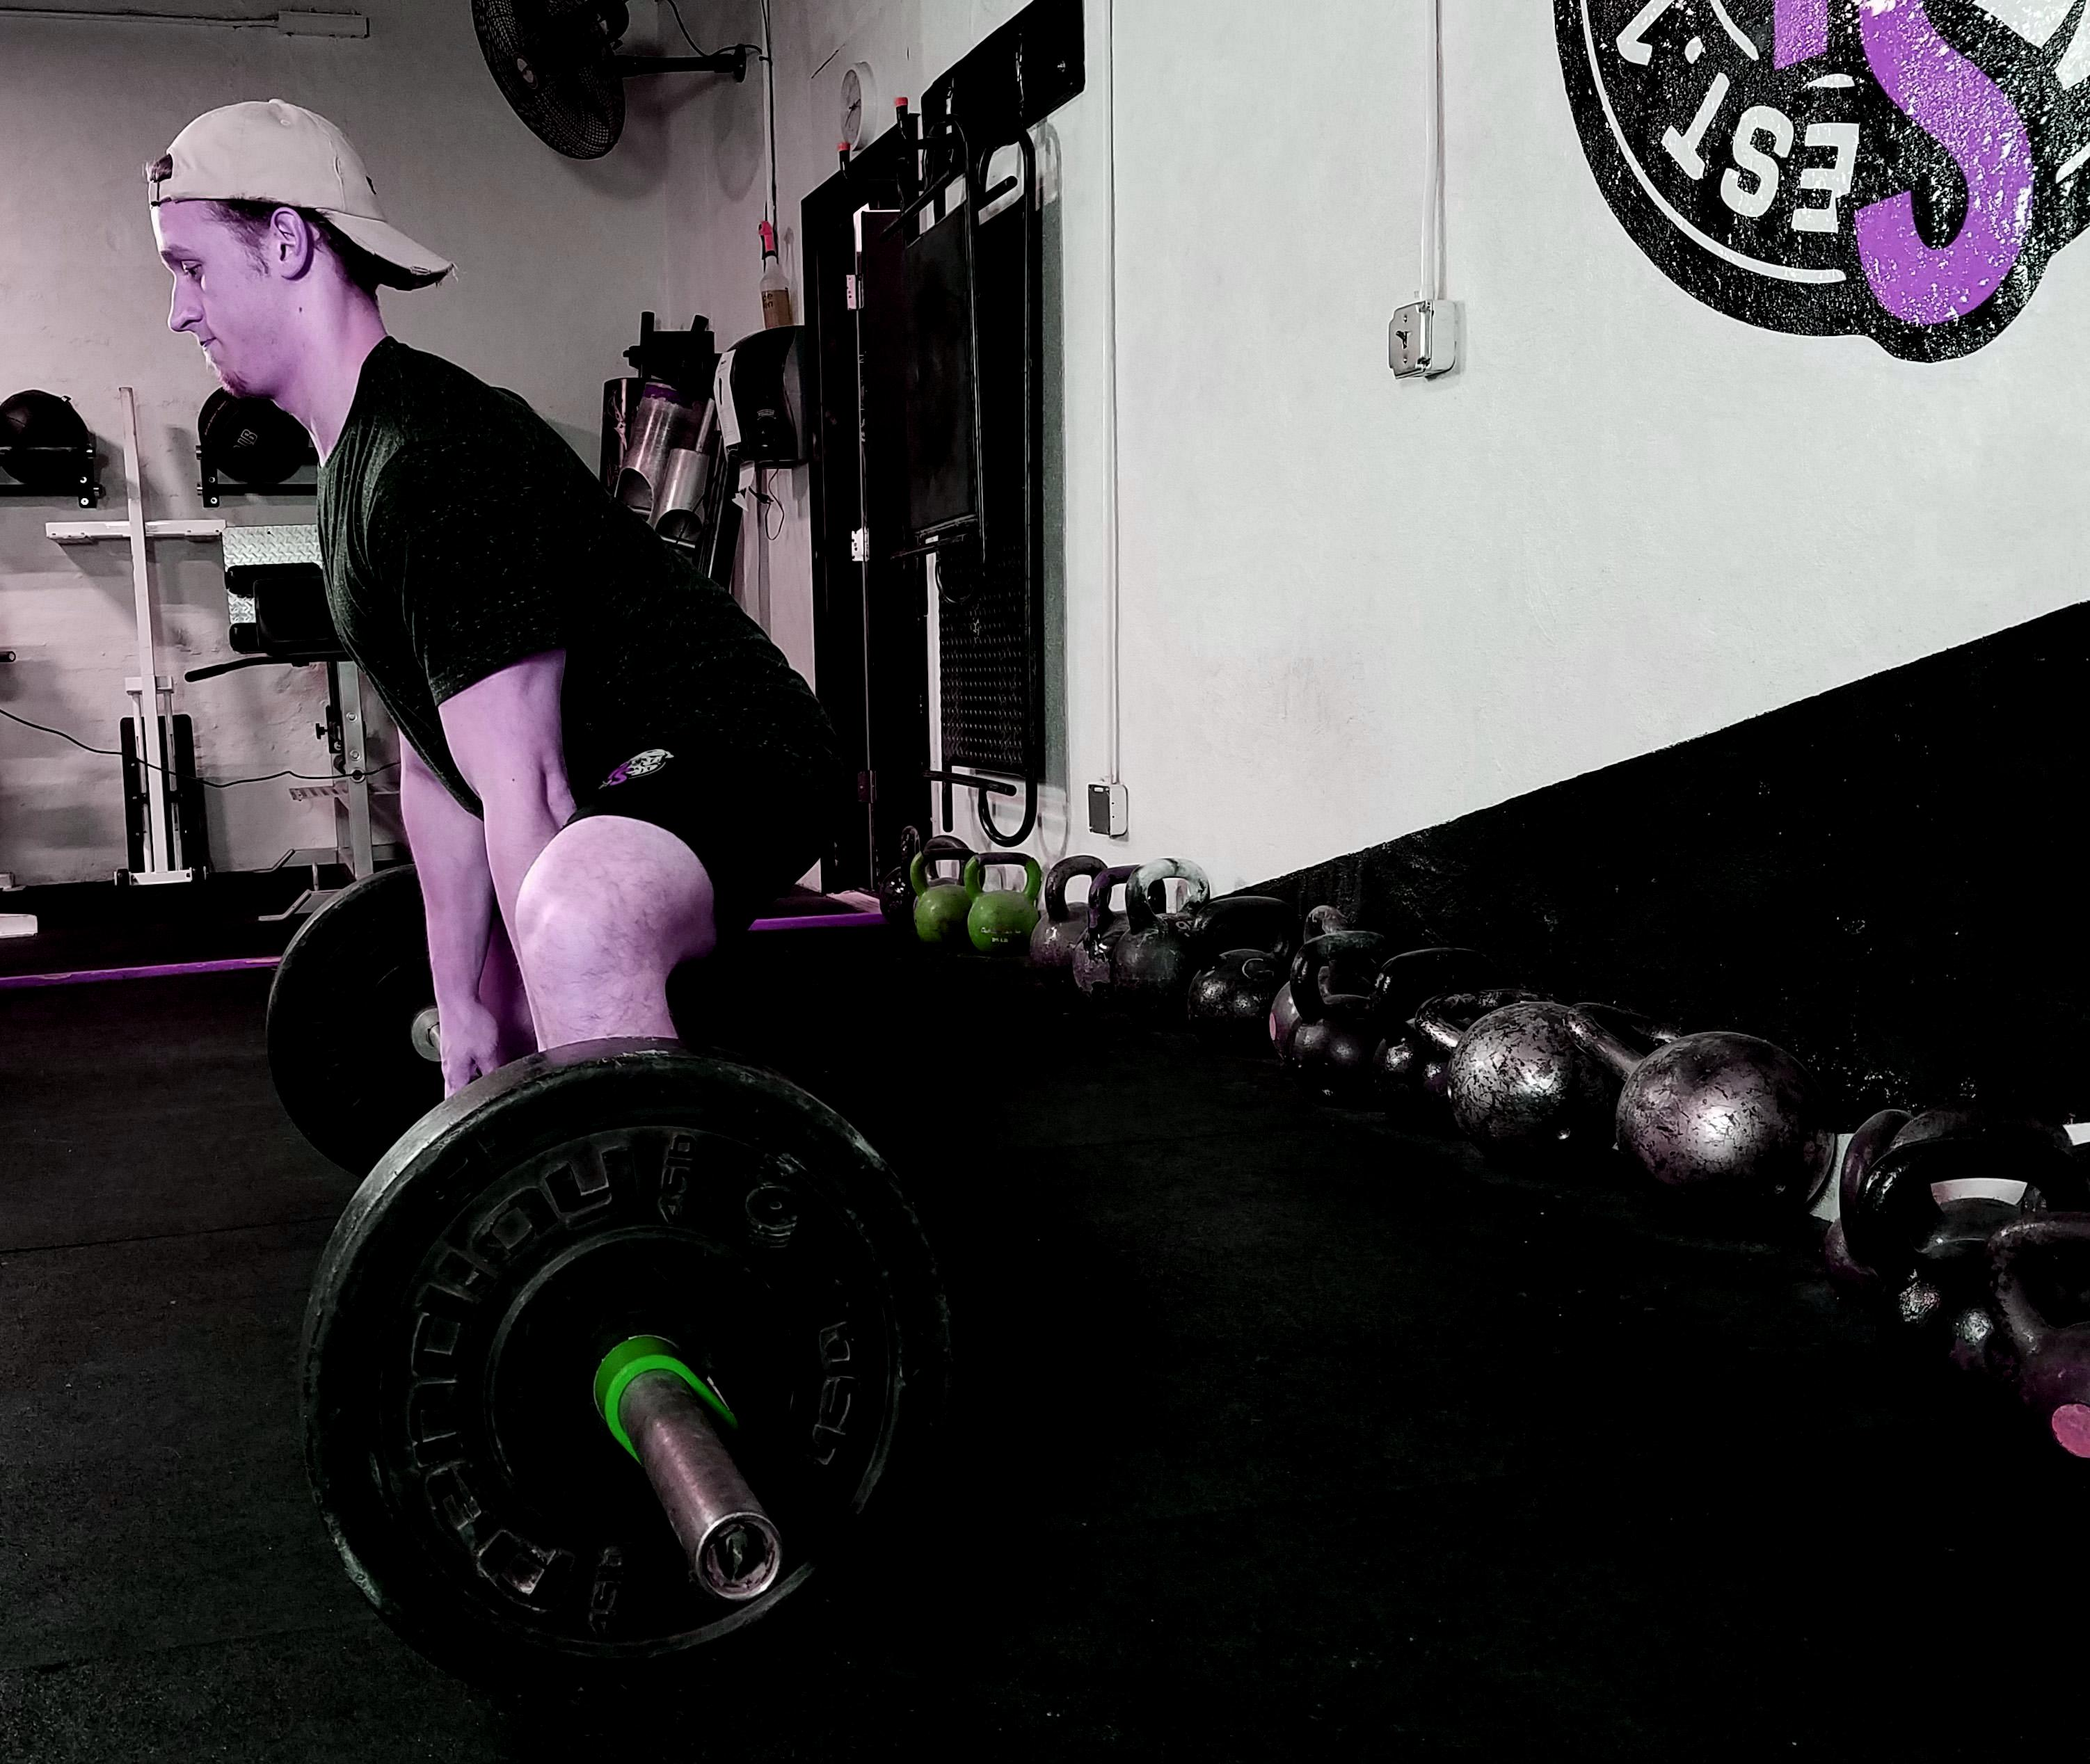Barbell: (695, 1500, 791, 1606)
